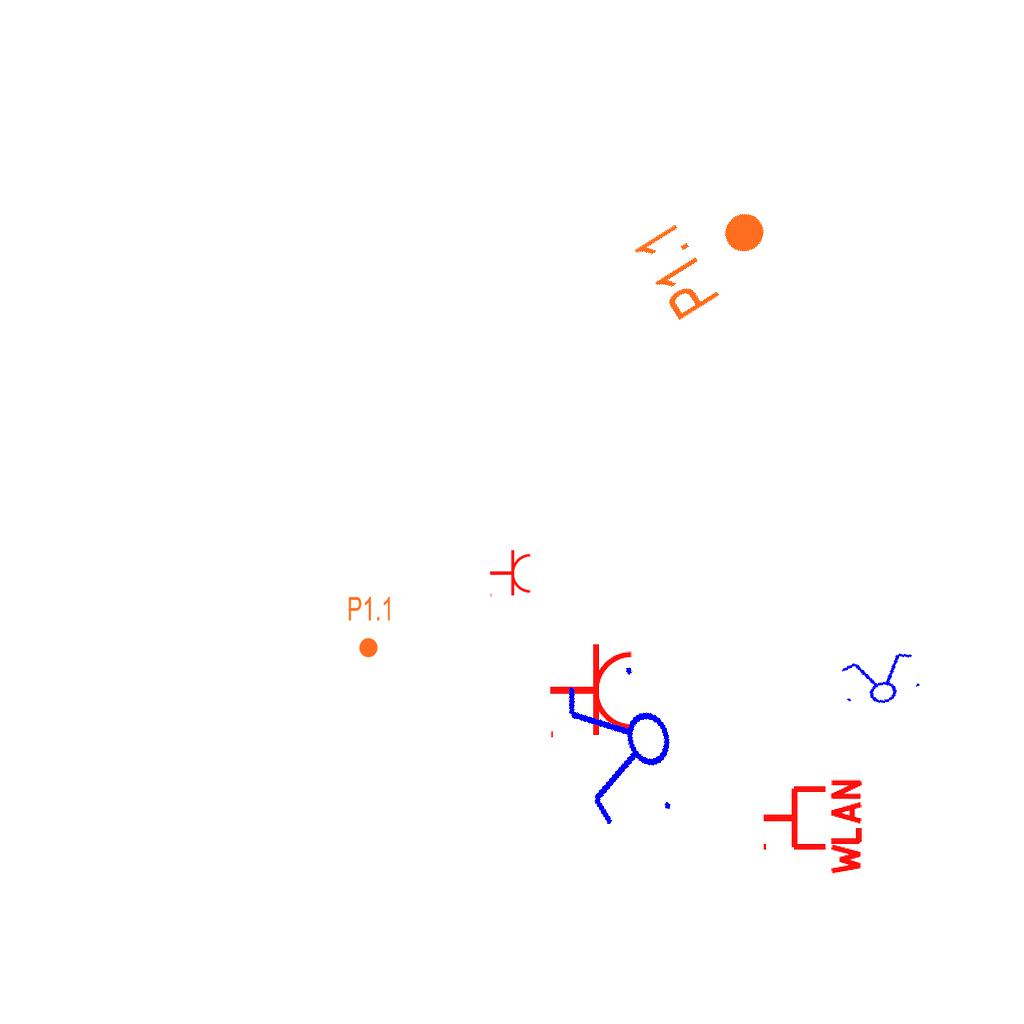Downlight_LED_Einbauleuchten_Flur: (628, 178, 787, 326), (347, 595, 393, 659)
Schukosteckdose_einfach: (548, 642, 635, 742), (489, 549, 532, 599)
Serienschalter: (554, 653, 694, 841), (833, 647, 927, 713)
WLAN: (759, 775, 864, 879)
